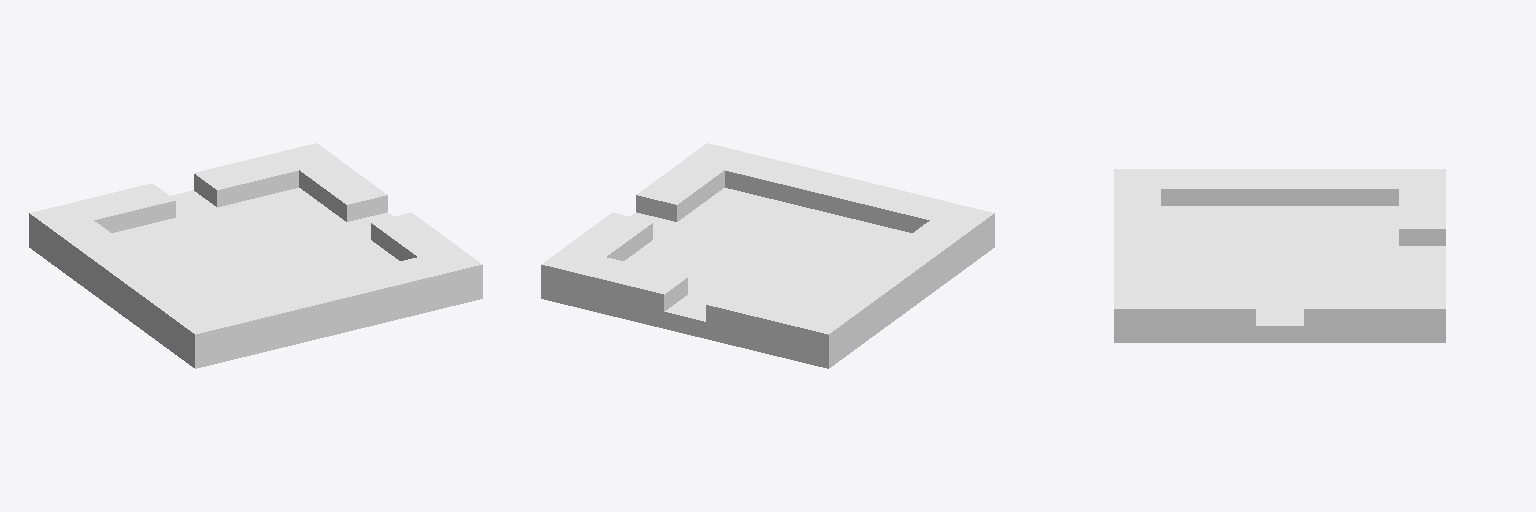
Rendered from CornerPlaza.obj.
The picture shows the model from 3 angles: view 1: azimuth 30°, elevation 25°; view 2: azimuth 150°, elevation 25°; view 3: azimuth 270°, elevation 25°; orthographic projection.
Parts seen in each view (by area): view 1: object 1; view 2: object 1; view 3: object 1.
Part boxes in pixels (left/top/right/bottom): object 1: left=29, top=143, right=482, bottom=368; object 1: left=541, top=143, right=994, bottom=368; object 1: left=1114, top=169, right=1445, bottom=342.
Bounding box in the file's own units: 7 × 0.8 × 7.